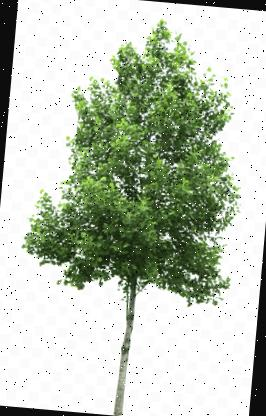tree: (8, 3, 257, 416)
